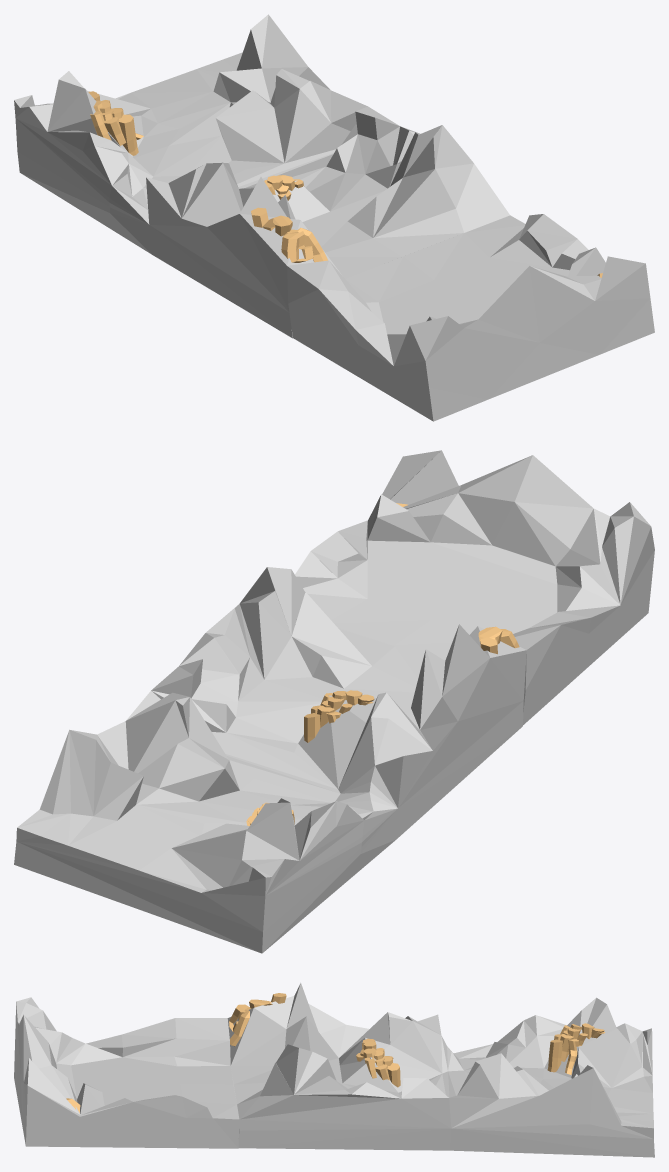
Rendered from snow-range.glb.
The picture shows the model from 3 angles, top to bottom: view 1: azimuth 30°, elevation 25°; view 2: azimuth 150°, elevation 25°; view 3: azimuth 270°, elevation 25°; orthographic projection. The views are drawn at different scales.
Visible parts, largest first — view 1: group1586283693, group1213442301, group103738613, group1020127045, group693436099, group1246920881; view 2: group103738613, group1586283693, group1213442301, group1246920881, group1020127045; view 3: group1213442301, group1586283693, group103738613, group693436099, group1246920881, group1020127045.
Boxes of the visible parts, x1=… form: group1586283693: x1=287, y1=214, x2=654, y2=421; group1213442301: x1=146, y1=106, x2=509, y2=338; group103738613: x1=14, y1=14, x2=367, y2=254; group1020127045: x1=251, y1=207, x2=327, y2=262; group693436099: x1=88, y1=91, x2=143, y2=155; group1246920881: x1=264, y1=175, x2=304, y2=200; group103738613: x1=14, y1=691, x2=397, y2=953; group1586283693: x1=295, y1=450, x2=654, y2=724; group1213442301: x1=151, y1=567, x2=526, y2=838; group1246920881: x1=304, y1=690, x2=374, y2=742; group1020127045: x1=478, y1=626, x2=519, y2=654; group1213442301: x1=227, y1=982, x2=451, y2=1150; group1586283693: x1=14, y1=997, x2=239, y2=1148; group103738613: x1=441, y1=997, x2=654, y2=1157; group693436099: x1=547, y1=1023, x2=605, y2=1074; group1246920881: x1=356, y1=1038, x2=400, y2=1087; group1020127045: x1=229, y1=993, x2=286, y2=1046.
Bounding box in the file's own units: 1.7 × 0.961 × 4.39.
